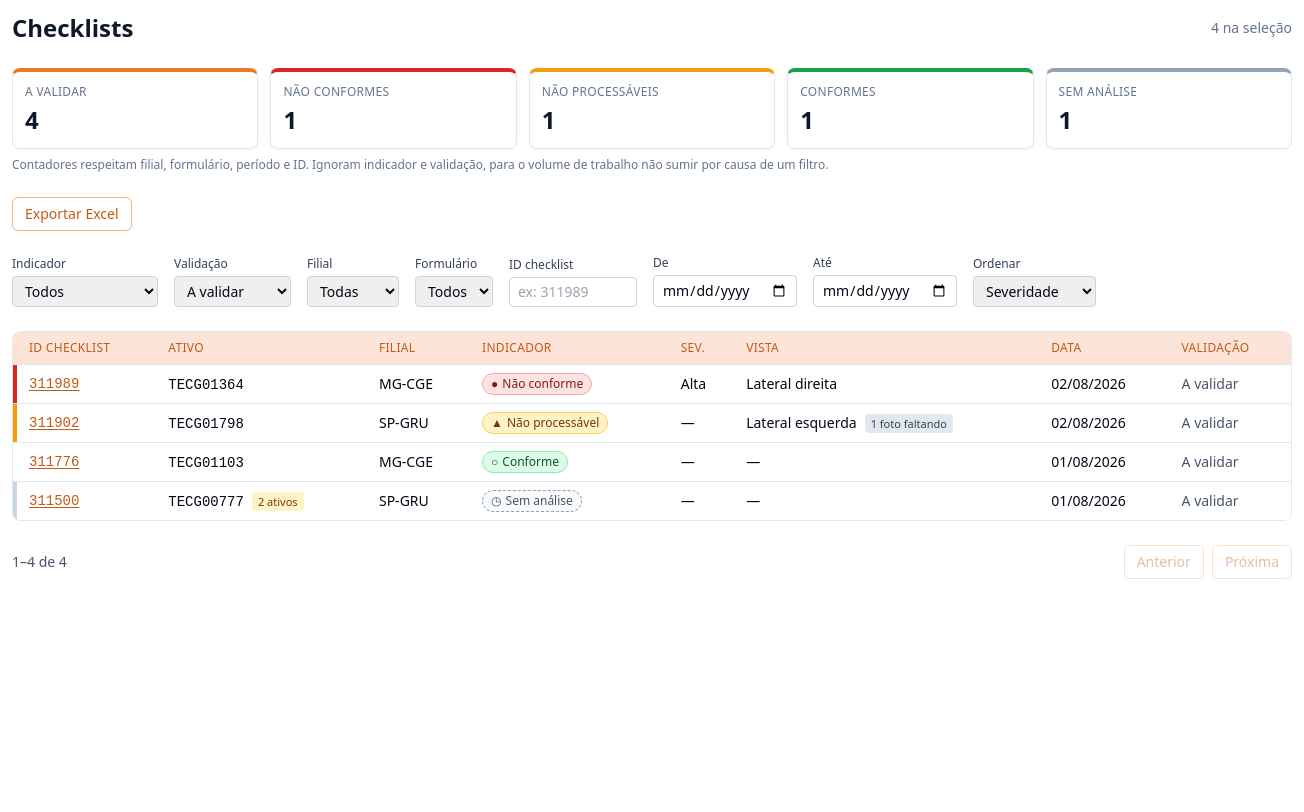
Test case: ChecklistsPage — exportar Excel › mostra erro visível quando a exportação falha, sem travar o botão
Step 1. Click the button with test id "botao-exportar-excel" → [72, 214], box [12, 197, 132, 231]
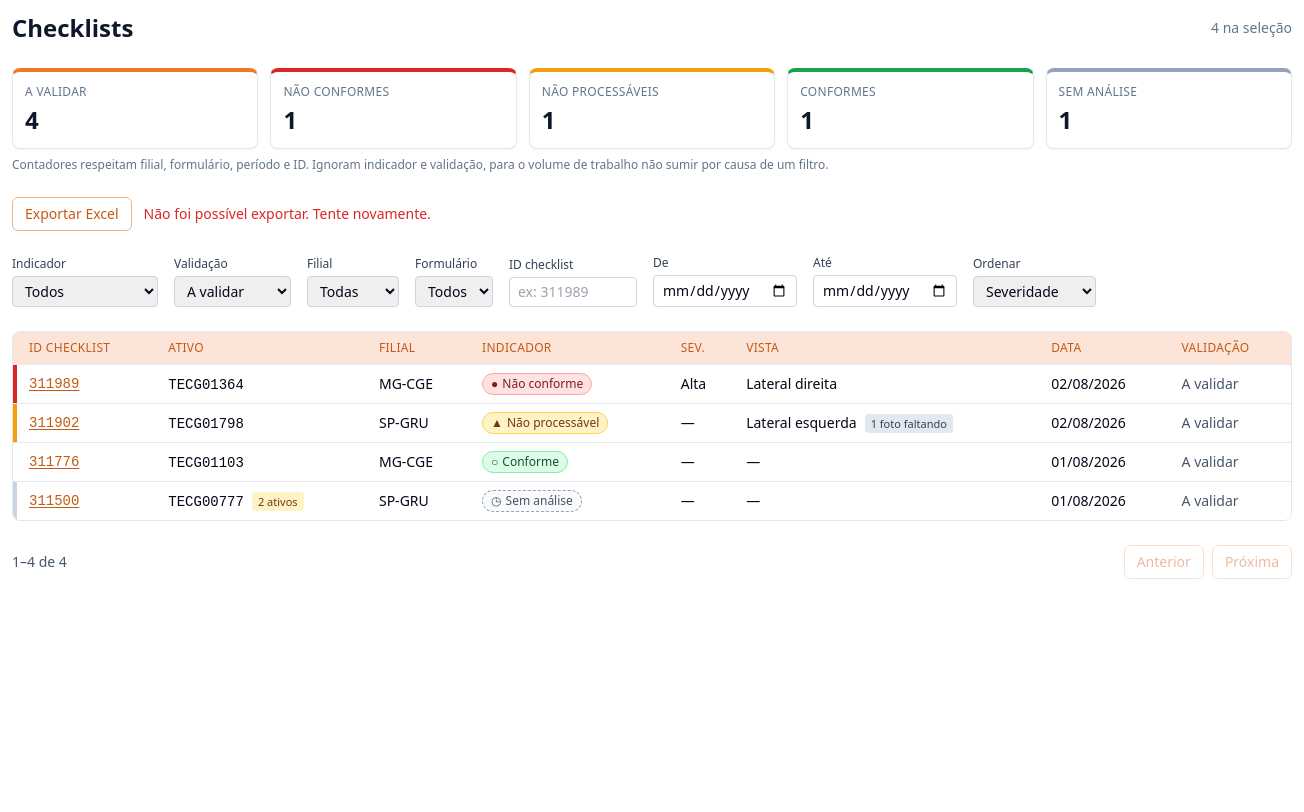
Now the message with test id "erro-exportar-excel" shows "Não foi possível", box [144, 204, 431, 223]
